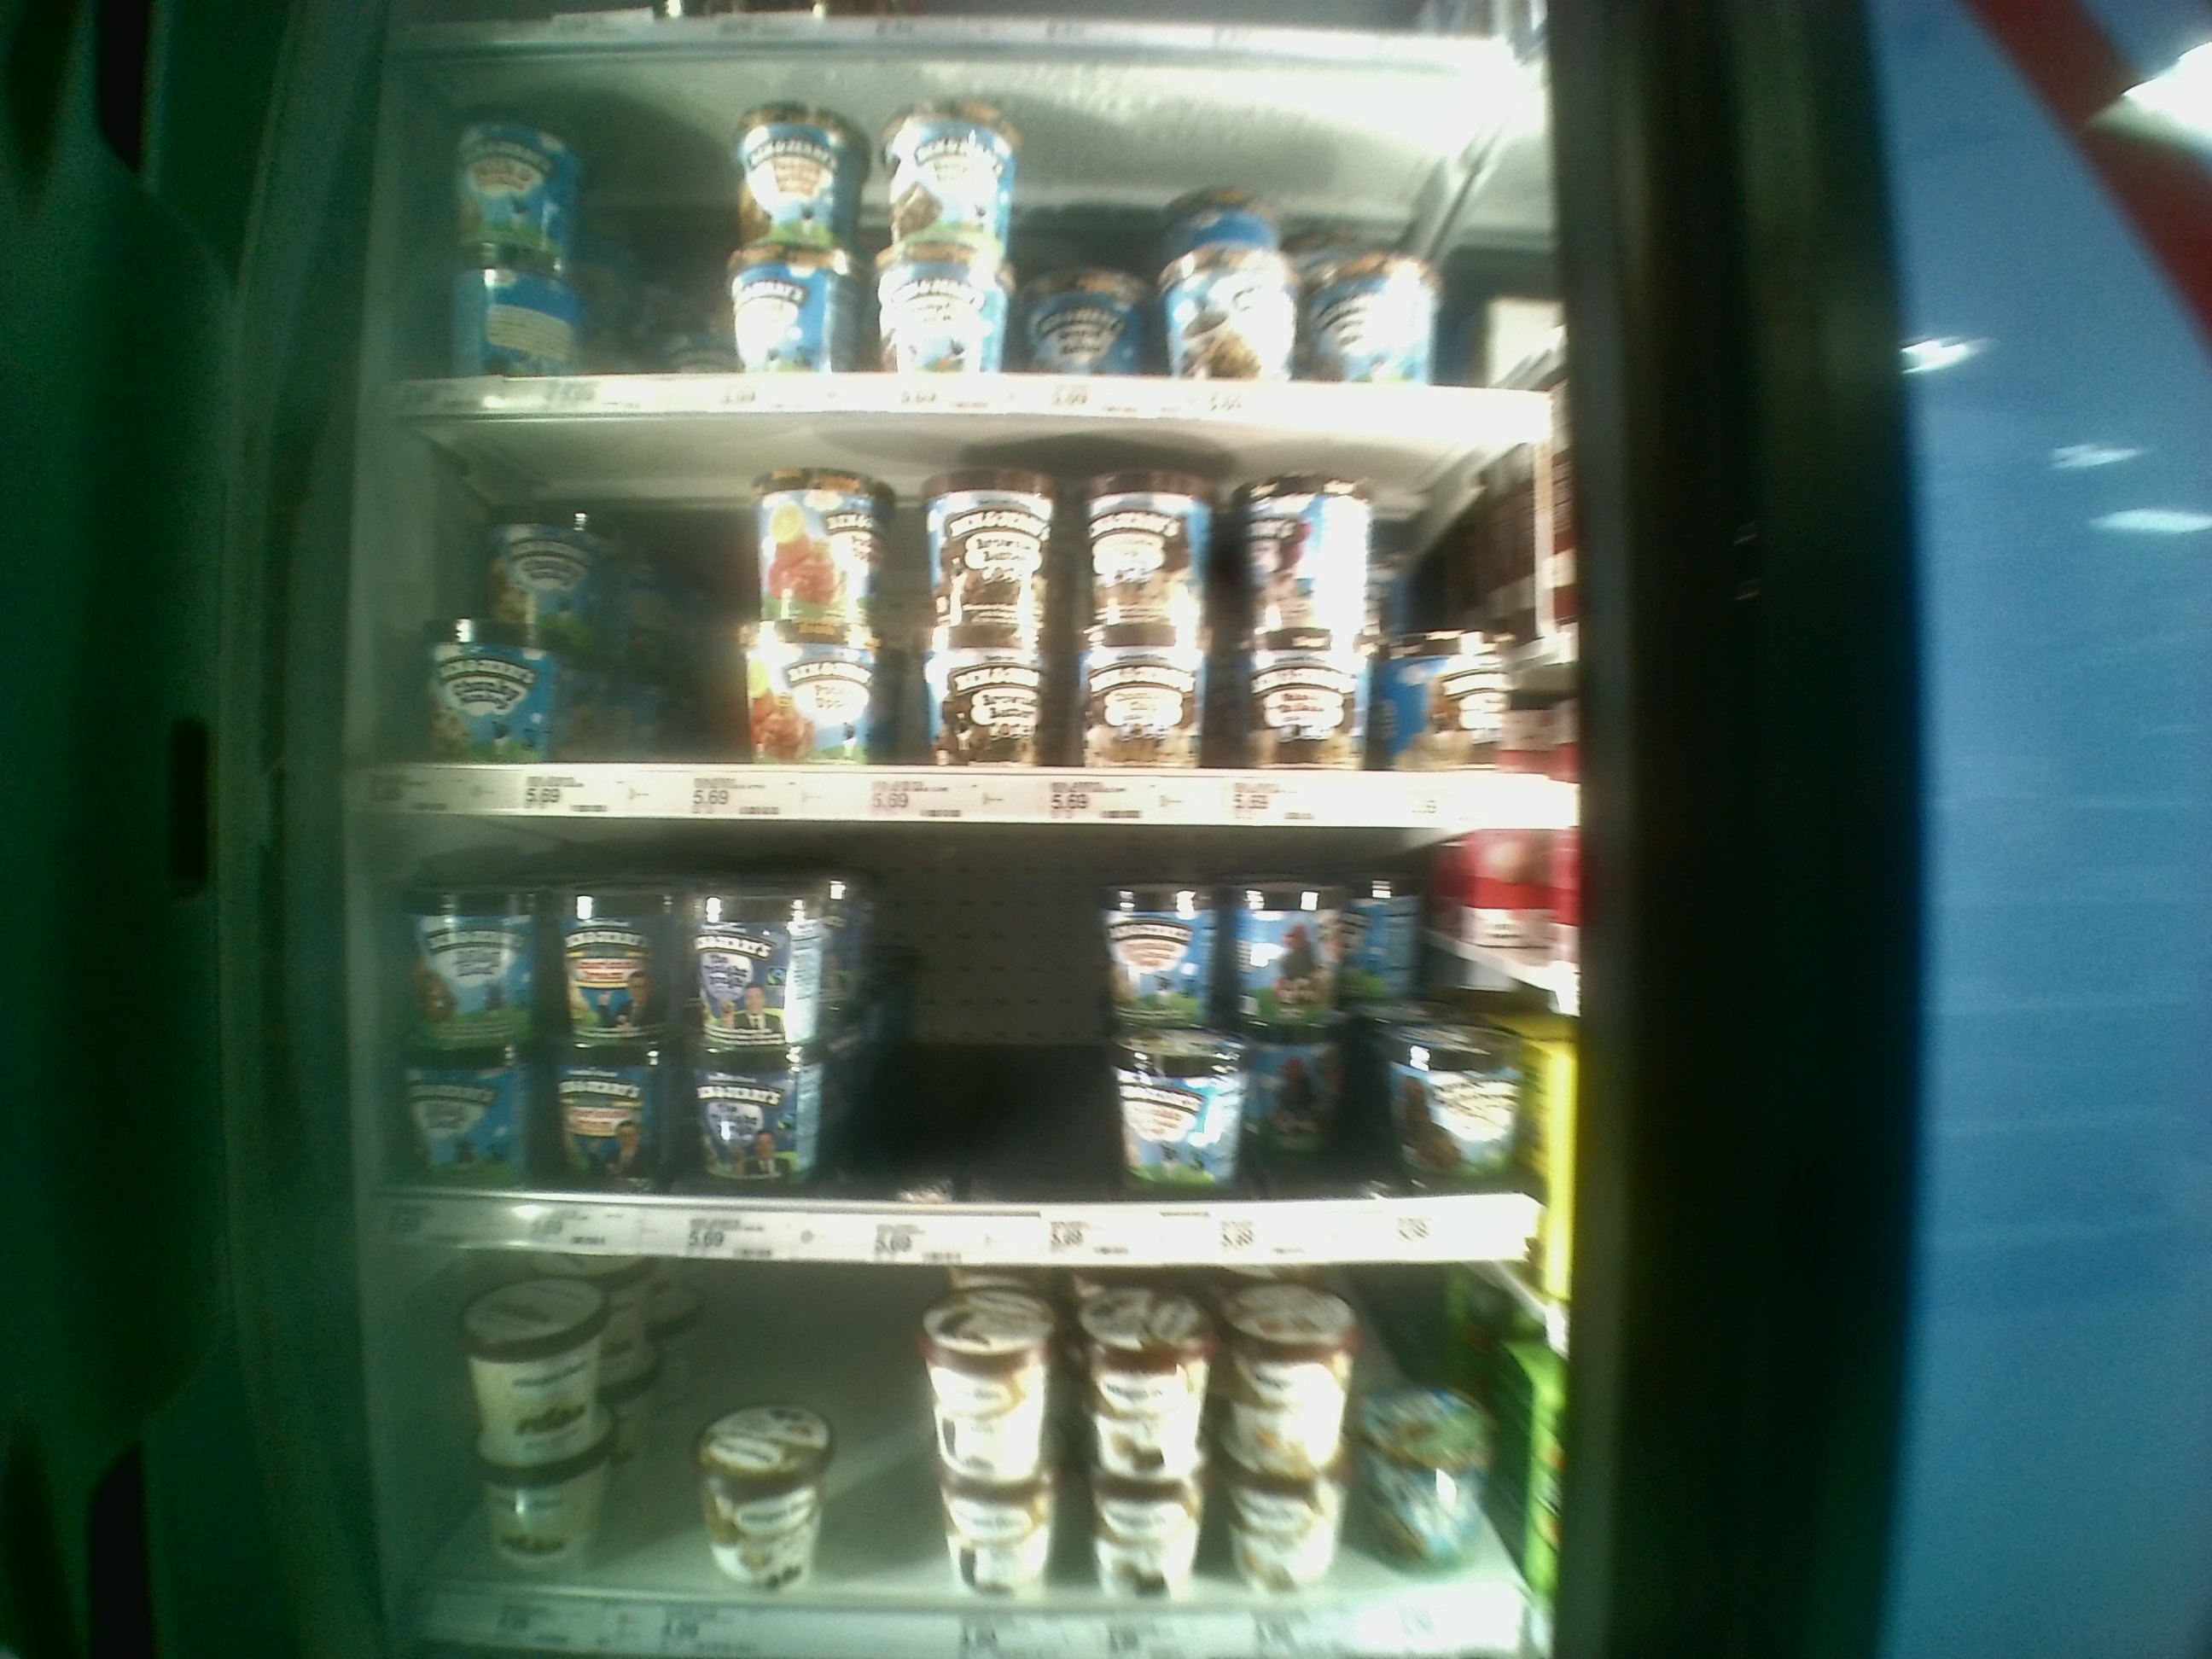ice-cream-shelf: (355, 828, 1587, 1258), (361, 413, 1595, 829)
